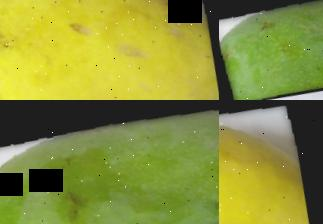Ripe: (0, 0, 219, 100), (219, 100, 321, 224)
Unripe: (0, 100, 219, 224), (219, 0, 323, 100)
